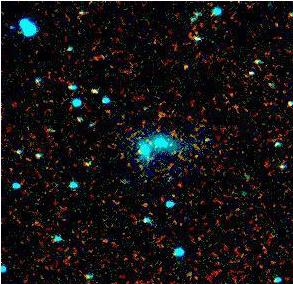star: (169, 46, 199, 76)
